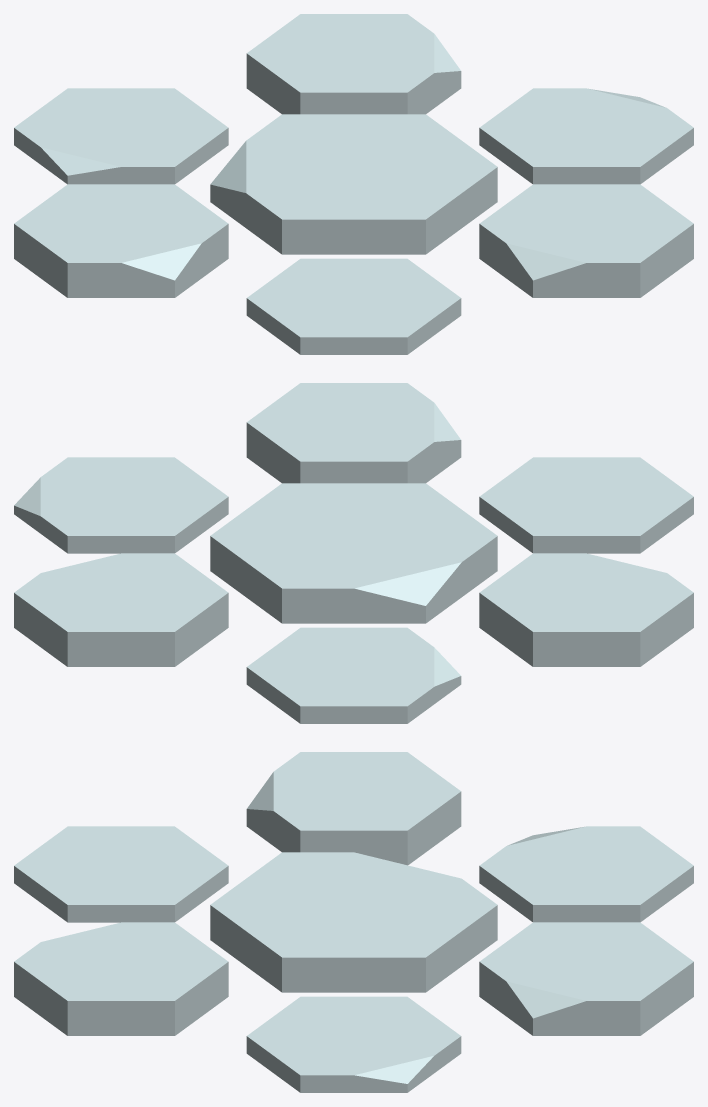
Rendered from path_stoneCircle.glb.
The picture shows the model from 3 angles, top to bottom: view 1: azimuth 30°, elevation 25°; view 2: azimuth 150°, elevation 25°; view 3: azimuth 270°, elevation 25°; orthographic projection.
Visible parts, largest first — view 1: path_stoneCircle; view 2: path_stoneCircle; view 3: path_stoneCircle.
Boxes of the visible parts, x1,y1,x2,y2 form: path_stoneCircle: (14, 14, 693, 354); path_stoneCircle: (14, 383, 693, 723); path_stoneCircle: (14, 752, 693, 1092).
Bounding box in the file's own units: 0.9324 × 0.05 × 0.8766.
Materials: 1 (1 with a texture image).
